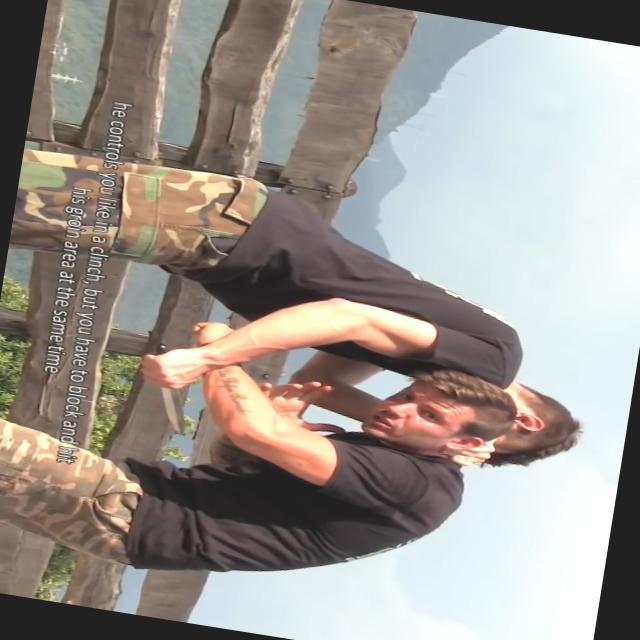knife: (126, 338, 208, 442)
